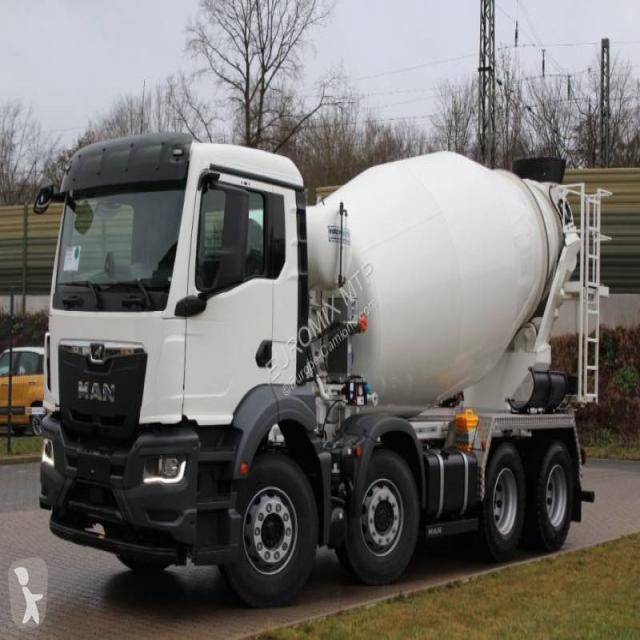Mixer Truck: (40, 132, 612, 607)
